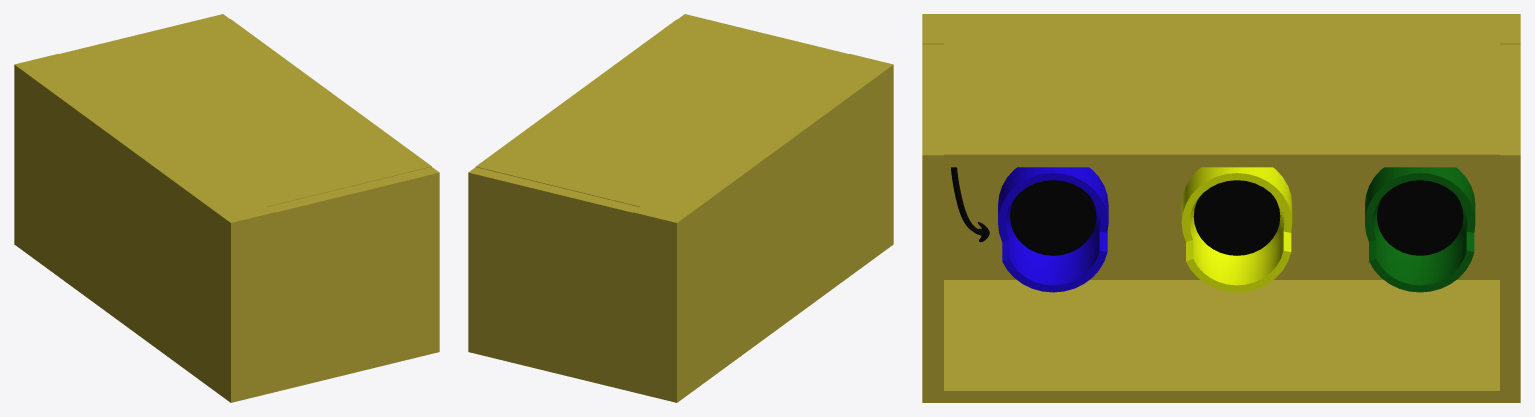
The model's file is backrooms level 0 mystery slides.fbx.
3 renders of one model, left to right at view 1: azimuth 30°, elevation 25°; view 2: azimuth 150°, elevation 25°; view 3: azimuth 270°, elevation 25°, orthographic. The views are drawn at different scales.
Visible parts, largest first — view 1: Cube; view 2: Cube; view 3: Cube, Cylinder, Cube.001.
Part boxes in pixels (bbox=[...]): Cube: bbox=[14, 14, 439, 402]; Cube: bbox=[468, 14, 893, 402]; Cube: bbox=[922, 14, 1520, 402]; Cylinder: bbox=[998, 167, 1475, 292]; Cube.001: bbox=[951, 167, 989, 242].
Size of the model in its own units: 484 by 399 by 870.
